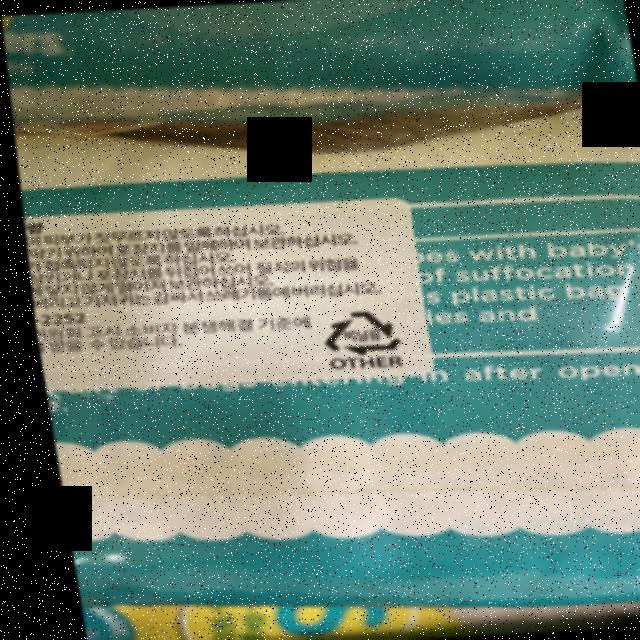Vinyl: (308, 306, 398, 358)
